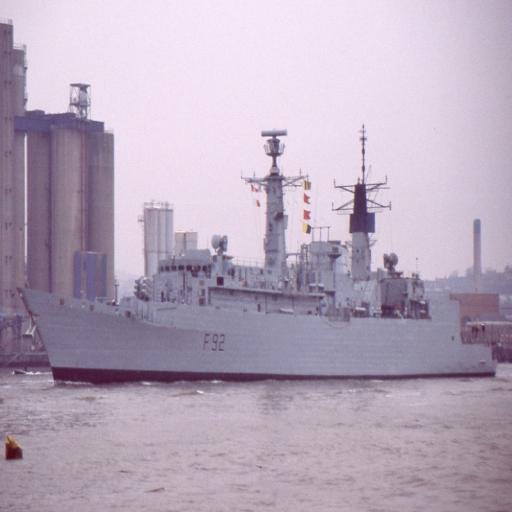Fragata: (12, 123, 502, 380)
